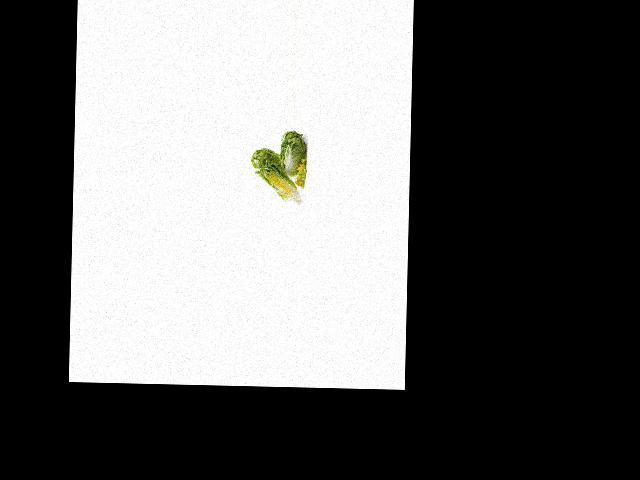lettuce: (277, 131, 309, 182)
